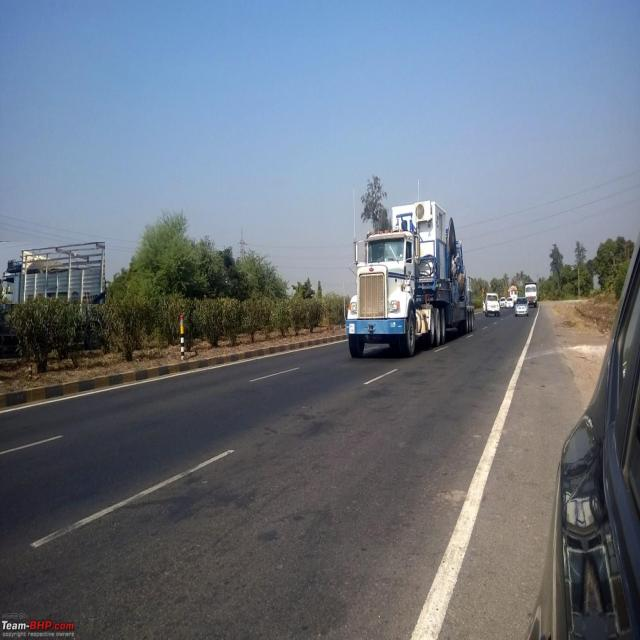car: (486, 293, 499, 316), (515, 298, 529, 316)
truck: (345, 200, 475, 358), (0, 243, 105, 304)
